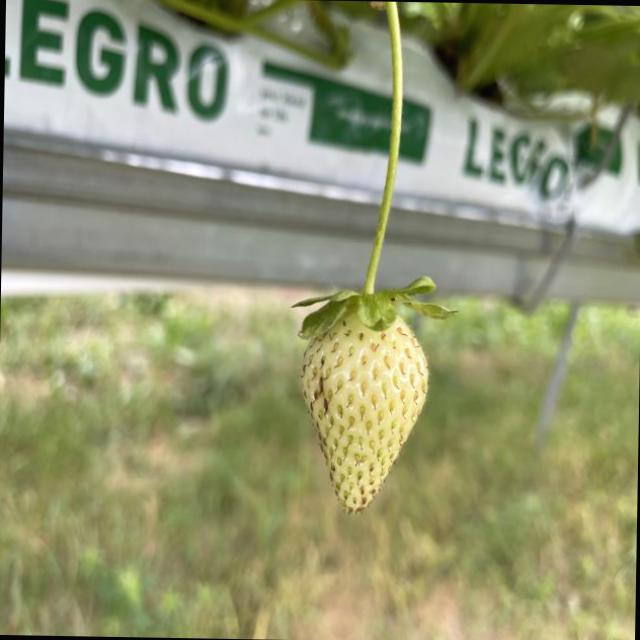stem: (294, 1, 454, 337)
strawberryNR: (300, 312, 427, 512)
